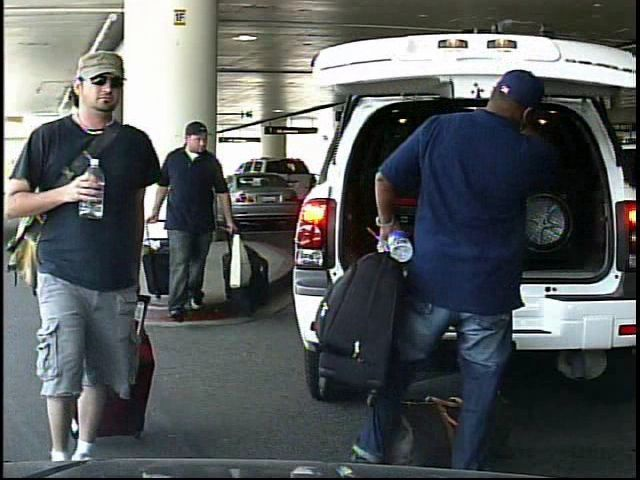person: (355, 74, 541, 476), (13, 56, 180, 480), (165, 115, 244, 320)
